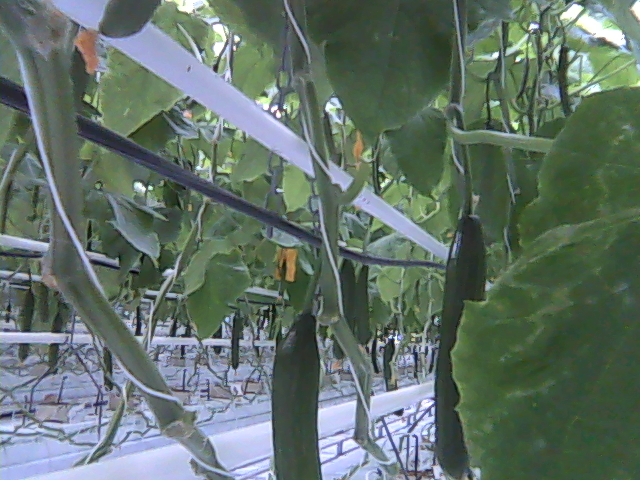concombre: (432, 210, 490, 480), (271, 311, 326, 480)
